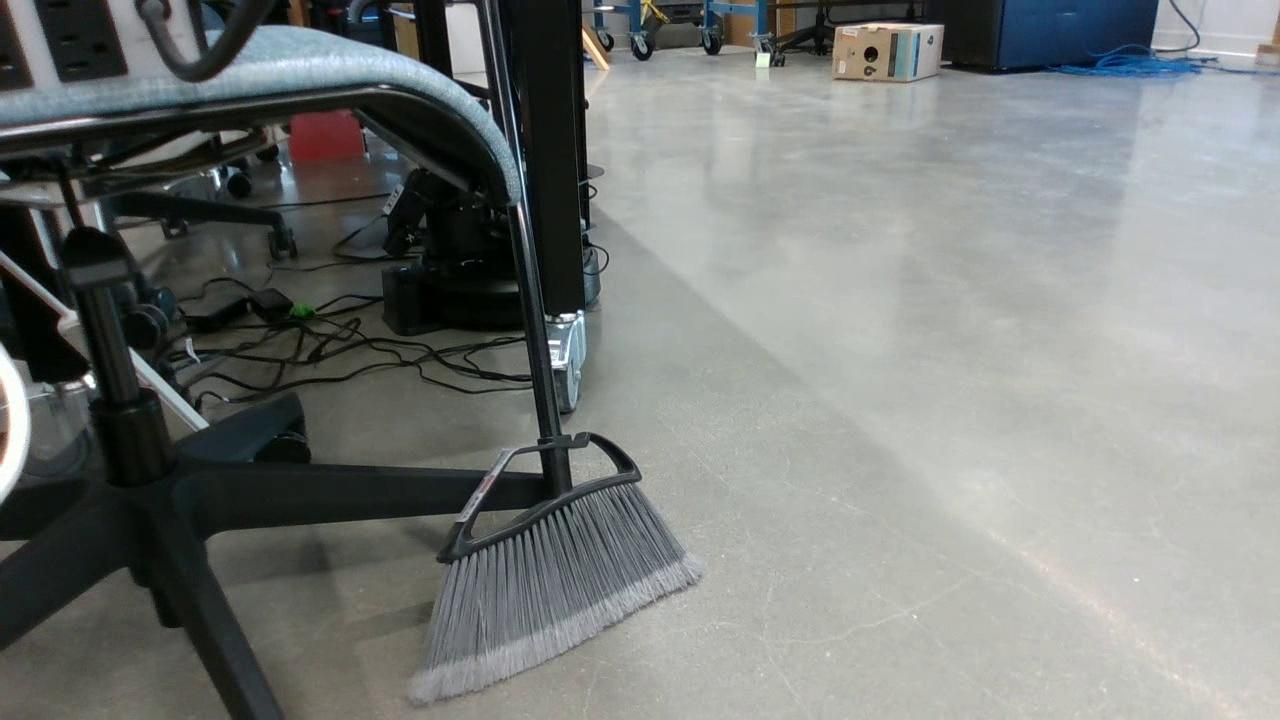grasshopper: (289, 303, 318, 316)
